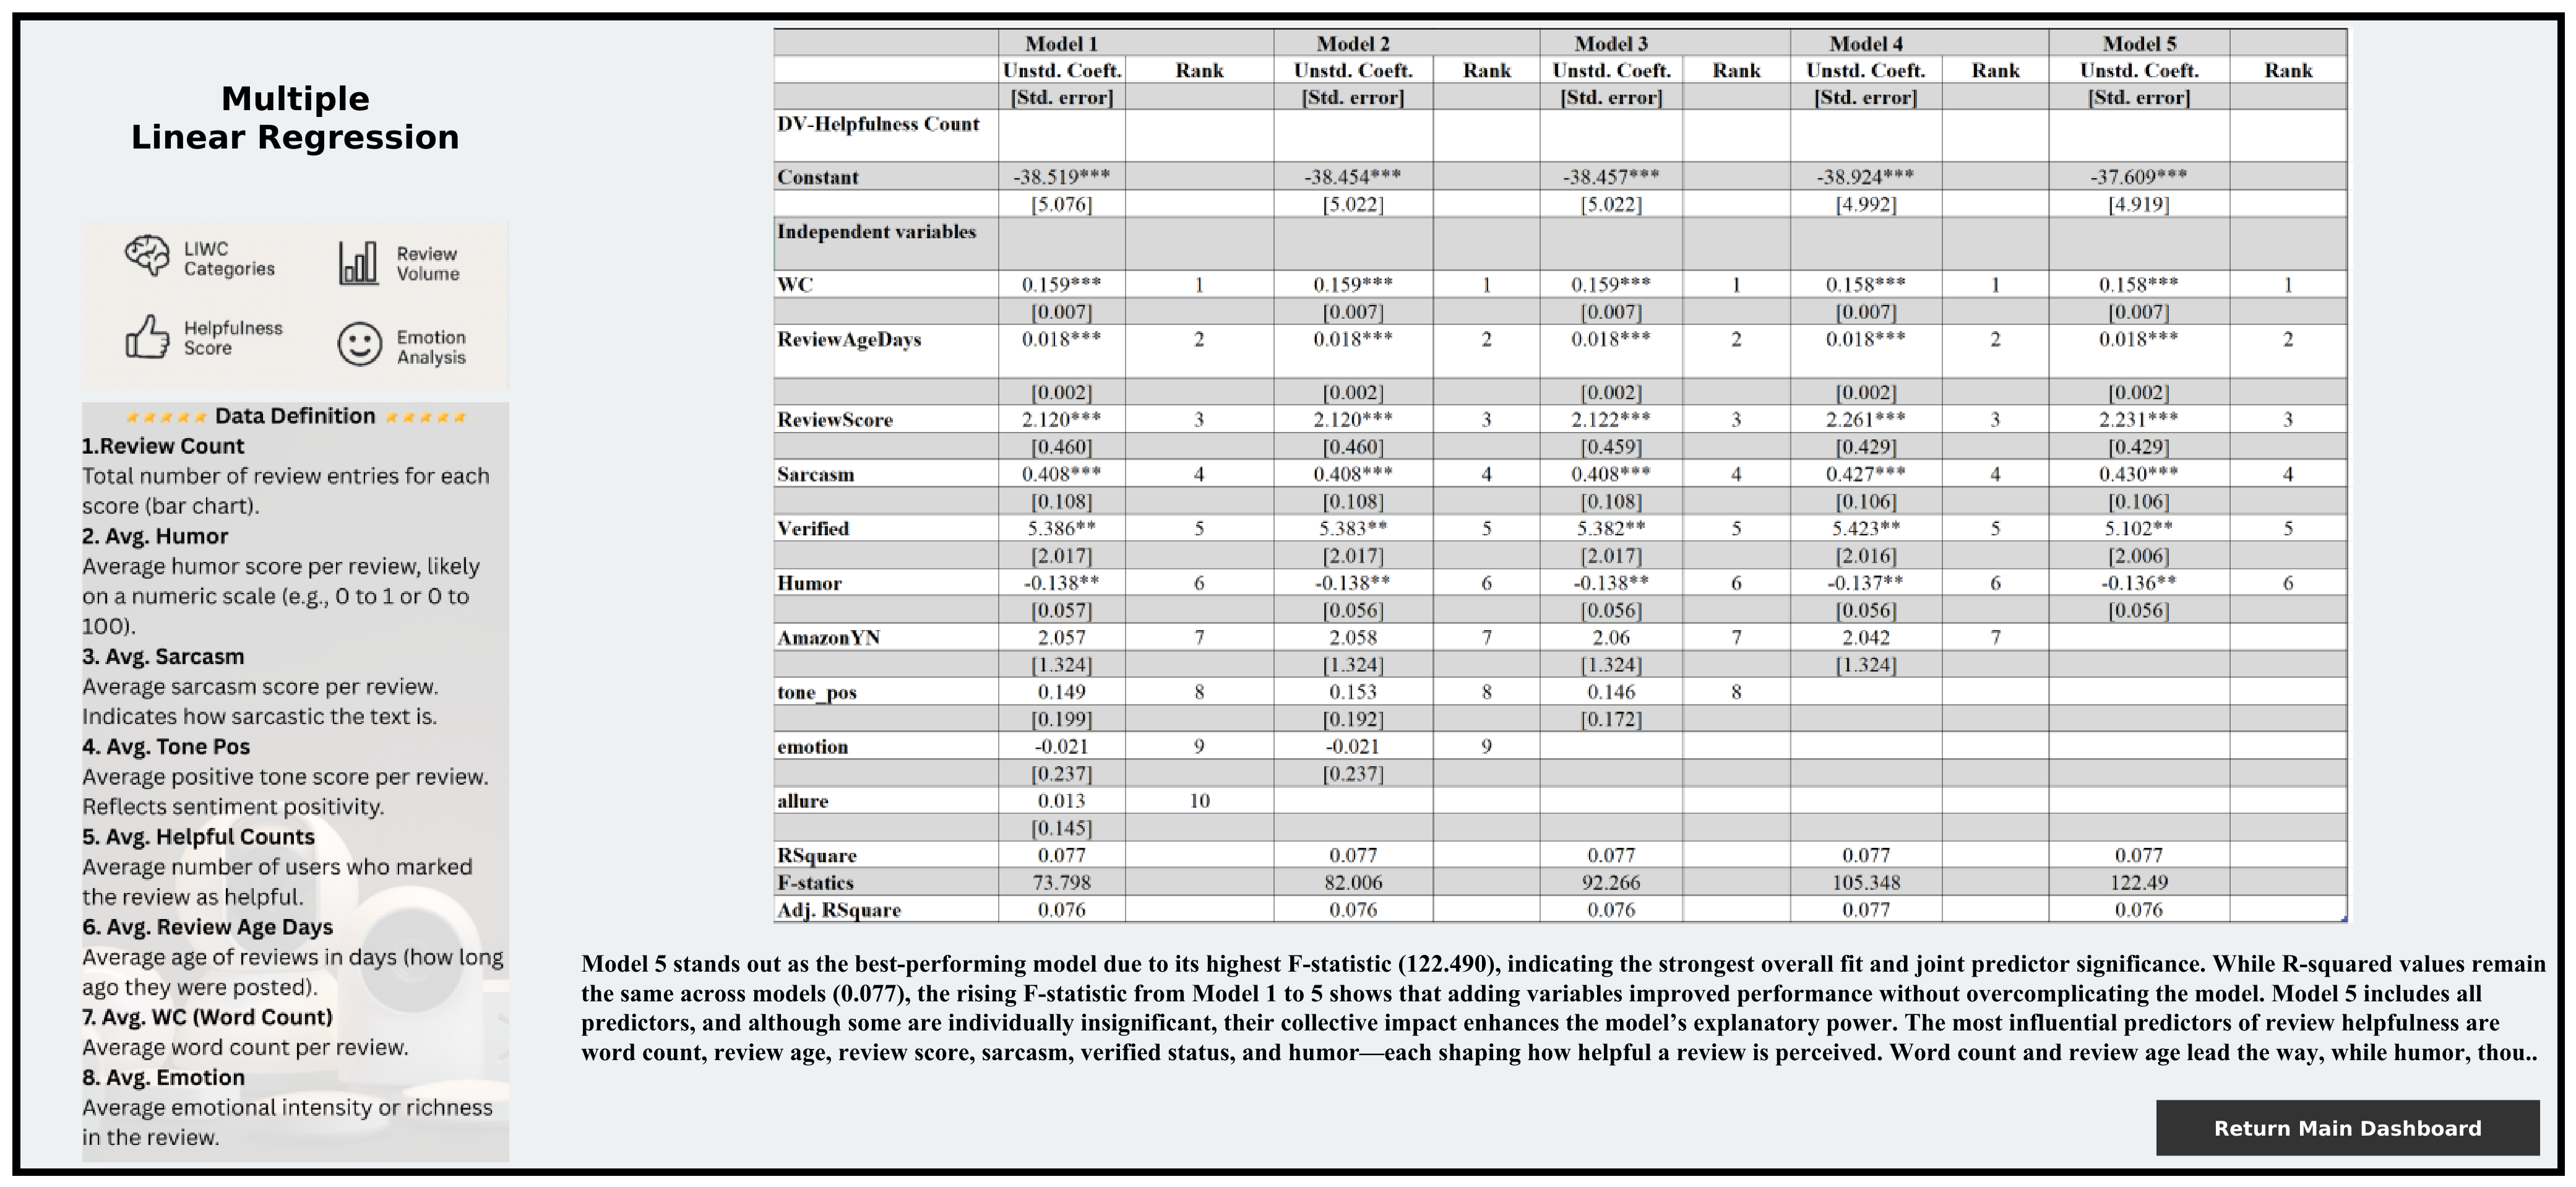

Layout of this report page (visuals, bound fields, positions):
{"tool":"tableau","page":{"name":"Linear Regression","canvas":[1666,768],"ordinal":0},"visuals":[{"type":"text","box":[13,13,356,126]},{"type":"image","param":"Image/1.png","box":[369,13,1284,588.4]},{"type":"image","param":"Image/Screenshot 2025-04-11 111332.png","box":[13,139,356,32]},{"type":"image","param":"Image/Beige Minimal Vlog Instagram Reel Cover (2).png","box":[13,171,356,584]},{"type":"text","box":[369,601.4,1284,119]}]}

Visuals, with their boxes in screenshot pixels (x1, y1, x2, y2), scaled from the page's 1666x768 canvas onto the 2576x1187 screenshot:
text: l=20, t=20, r=571, b=215
image: l=571, t=20, r=2556, b=930
image: l=20, t=215, r=571, b=264
image: l=20, t=264, r=571, b=1167
text: l=571, t=930, r=2556, b=1113
